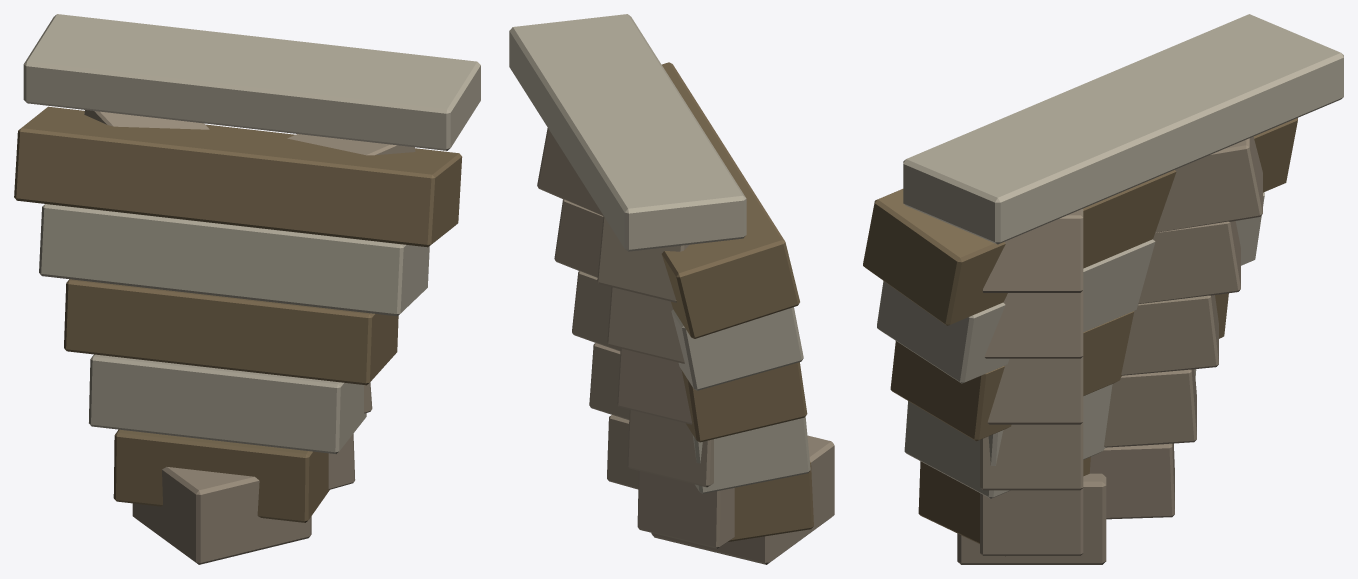
The model's file is mod_pendentive_corner.glb.
The picture shows the model from 3 angles, left to right: view 1: azimuth 30°, elevation 25°; view 2: azimuth 150°, elevation 25°; view 3: azimuth 270°, elevation 25°; orthographic projection. The views are drawn at different scales.
Visible parts, largest first — view 1: Mod_Pendentive_Corner; view 2: Mod_Pendentive_Corner; view 3: Mod_Pendentive_Corner.
Part boxes in pixels (x1,y1,x2,y2): Mod_Pendentive_Corner: [14, 14, 480, 564]; Mod_Pendentive_Corner: [509, 14, 834, 564]; Mod_Pendentive_Corner: [863, 14, 1343, 564].
Bounding box in the file's own units: 1.68 × 1.8 × 1.68.
